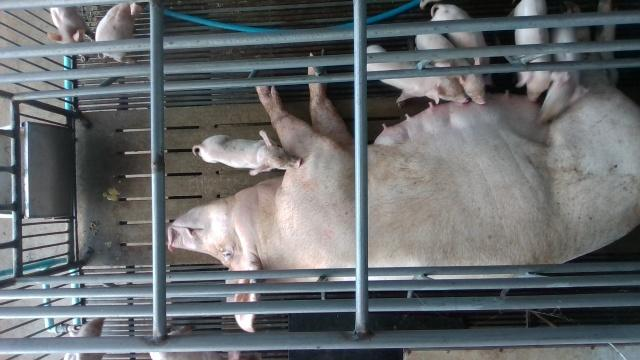piglet: (367, 45, 469, 106), (192, 130, 303, 178), (539, 27, 592, 124), (430, 4, 491, 86), (415, 34, 486, 104), (508, 0, 556, 103), (96, 3, 142, 66), (46, 6, 95, 61)
sow-sleep-lactate: (168, 0, 640, 333)
